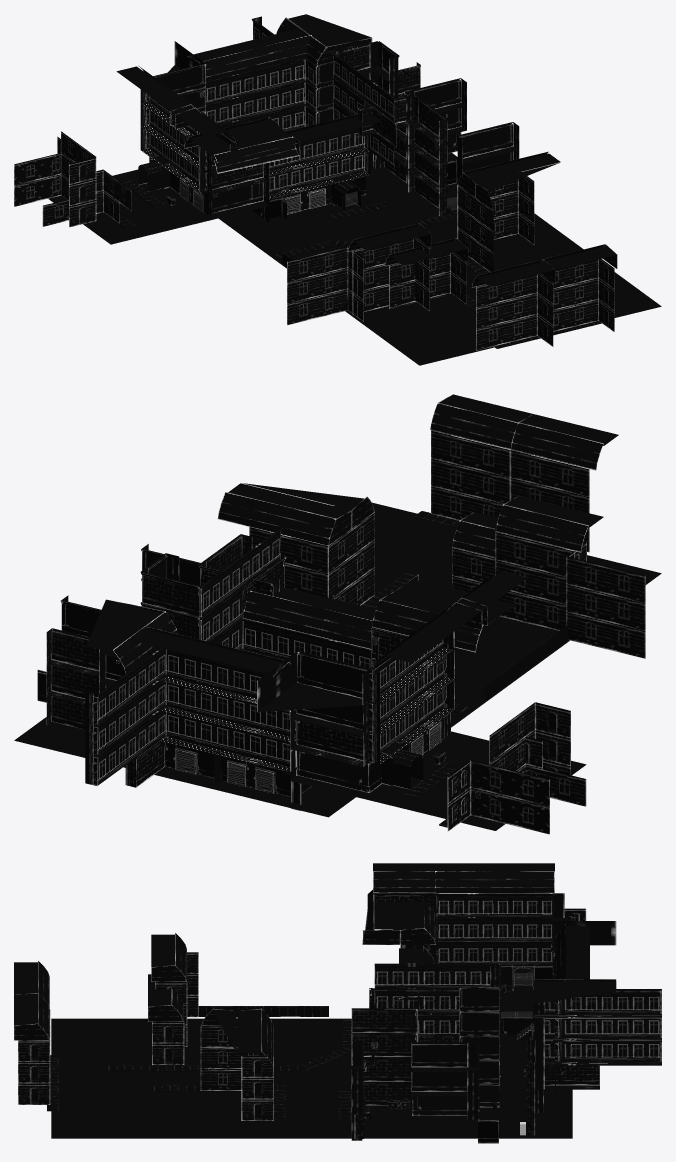
File: seinecourt1test.glb
3 renders of one model, top to bottom at view 1: azimuth 30°, elevation 25°; view 2: azimuth 150°, elevation 25°; view 3: azimuth 270°, elevation 25°, orthographic. The views are drawn at different scales.
Visible parts, largest first — view 1: Plane.002, Cube.099, Cube.094, Plane, Cube.091, Cube.039, Cube.090, Cube.087, Cube.017, Cube.018, Cube.050, Cube.032 (+46 smaller); view 2: Plane.002, Cube.052, Cube.099, Cube.091, Cube.090, Cube.009, Cube.019, Cube.034, Plane, Cube.059, Cube.017, Cube.029 (+43 smaller); view 3: Plane.002, Cube.052, Cube.055, Cube.023, Cube.044, Cube.022, Cube.021, Cube.003, Cube.080, Cube.091, Cube.018, Cube.026 (+35 smaller).
Boxes of the visible parts, x1,y1,x2,y2 form: Plane.002: (218,152,661,365); Cube.099: (287,246,363,325); Cube.094: (476,274,553,350); Plane: (48,169,269,244); Cube.091: (553,259,614,331); Cube.039: (187,29,311,81); Cube.090: (352,238,429,314); Cube.087: (389,252,466,308); Cube.017: (61,131,96,227); Cube.018: (457,172,534,244); Cube.050: (201,128,299,173); Cube.032: (263,148,370,199); Plane.002: (14,502,661,817); Cube.052: (85,648,167,787); Cube.099: (566,541,645,658); Cube.091: (431,430,510,520); Cube.090: (495,532,574,630); Cube.009: (257,651,369,711); Cube.019: (217,483,351,545); Cube.034: (242,586,375,649); Plane: (289,731,586,830); Cube.059: (46,628,98,729); Cube.017: (489,702,570,775); Cube.029: (161,712,296,772); Plane.002: (51,1018,572,1138); Cube.052: (534,989,661,1112); Cube.055: (411,1042,498,1143); Cube.023: (435,863,554,893); Cube.044: (374,963,499,988); Cube.022: (436,893,554,917); Cube.021: (438,917,554,940); Cube.003: (438,941,552,965); Cube.080: (200,1026,265,1090); Cube.091: (18,1040,50,1104); Cube.018: (241,1056,273,1120); Cube.026: (373,863,444,892).
Size of what is drawn, in the model's own units: 82.46 by 27.86 by 109.
208 materials, 207 textured.
